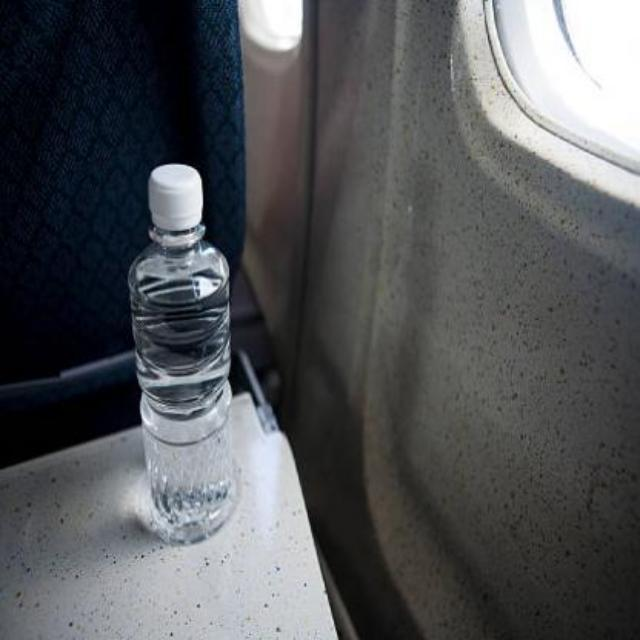plastic_bottle: (122, 154, 241, 532)
